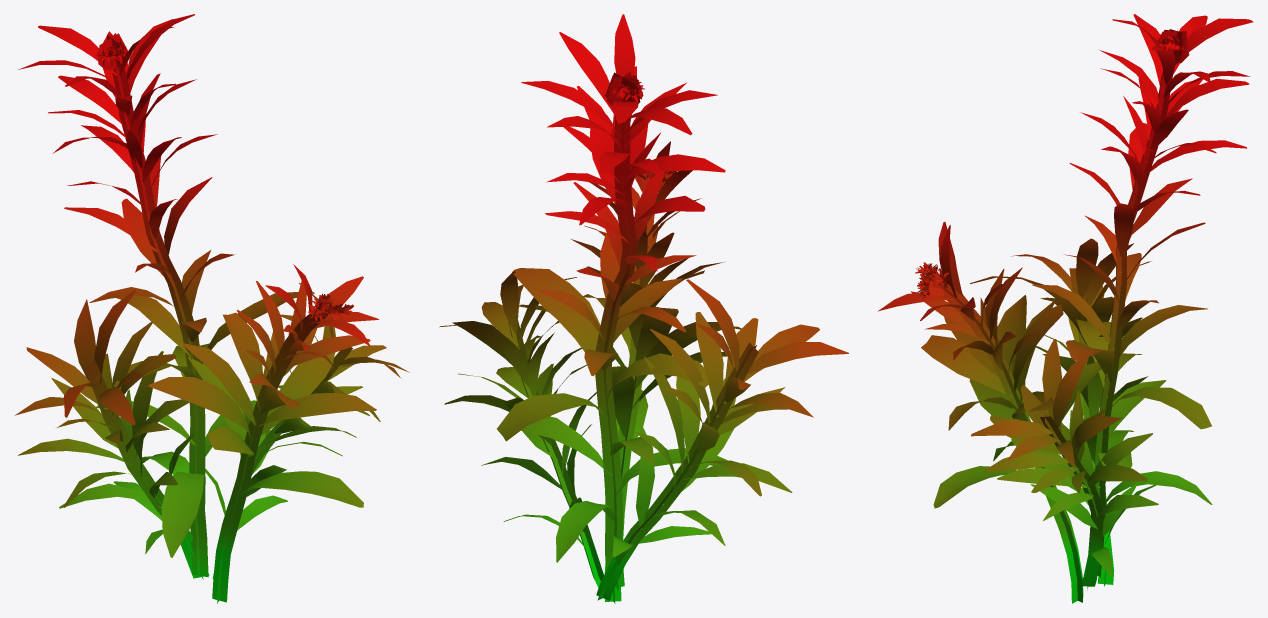
Rendered from Goldenrods_LOD3_Var5.fbx.
3 views of the same model, side by side, from view 1: azimuth 30°, elevation 25°; view 2: azimuth 150°, elevation 25°; view 3: azimuth 270°, elevation 25° (orthographic). The views are drawn at different scales.
Visible parts, largest first — view 1: _qwf9_Var5_LOD3; view 2: _qwf9_Var5_LOD3; view 3: _qwf9_Var5_LOD3.
Boxes of the visible parts, box(x1,y1,x2,y2) form: _qwf9_Var5_LOD3: box(15, 14, 409, 603); _qwf9_Var5_LOD3: box(439, 14, 848, 603); _qwf9_Var5_LOD3: box(878, 14, 1253, 603).
Size of the model in its own units: 65.06 by 97.73 by 58.57.
